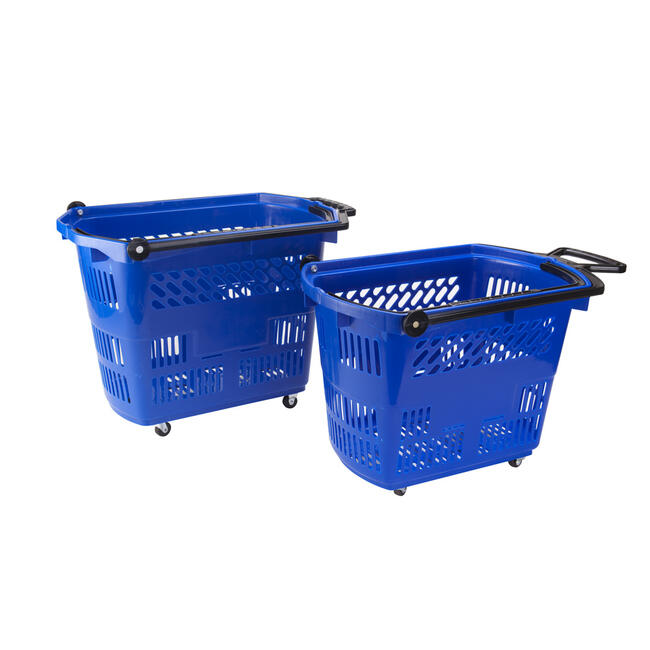with_basket: (307, 226, 628, 499), (56, 158, 341, 436)
